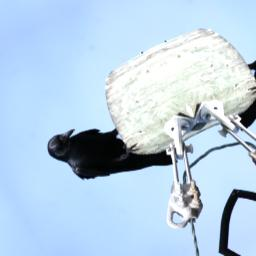Crow: (41, 93, 181, 211)
